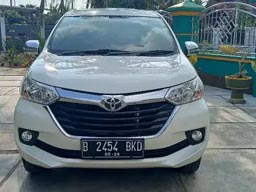plat: (80, 139, 145, 151)
